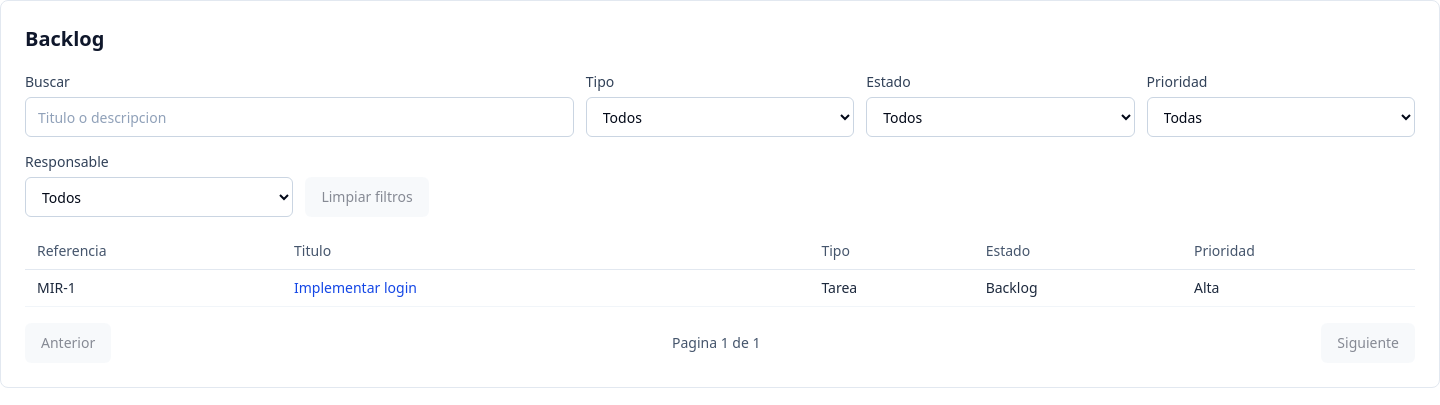
WorkItemBacklog › combina busqueda, tipo, estado, prioridad y responsable en una misma consulta
The width and height of the screenshot is (1440, 405).
Expected: the link "Implementar login" is shown, [294, 278, 417, 297]
Type "login" into the search field labelled "Buscar" at (299, 117), box [25, 97, 574, 137]
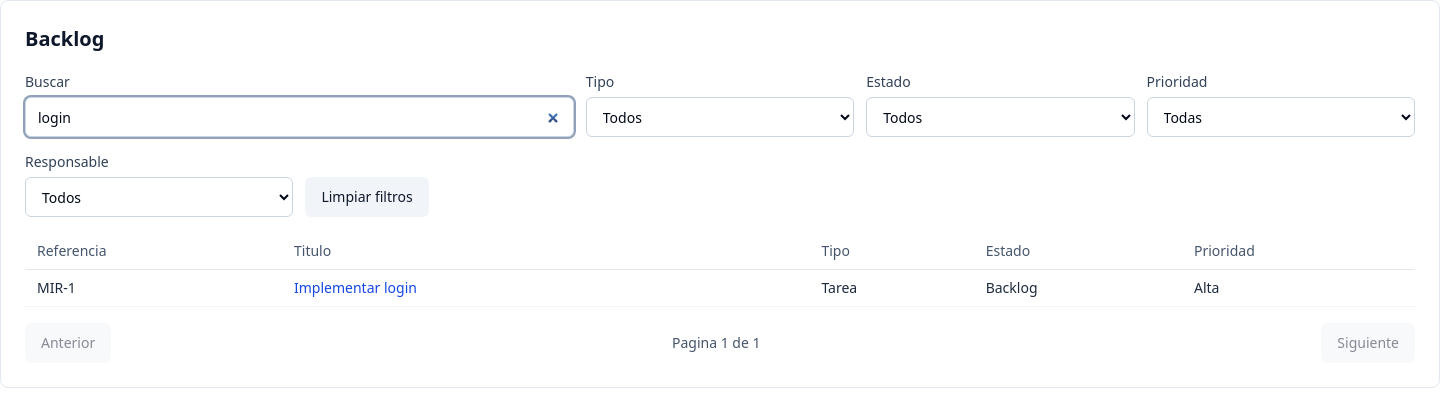
Select "Bug" in the dropdown labelled "Tipo" at (720, 117), box [586, 97, 854, 137]
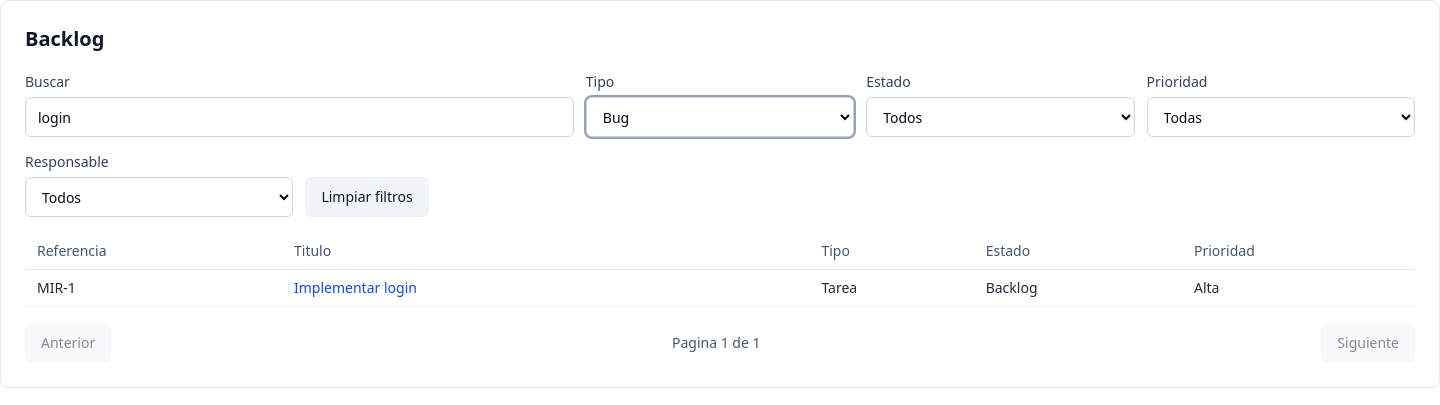
Select "En progreso" in the dropdown labelled "Estado" at (1000, 117), box [866, 97, 1135, 137]
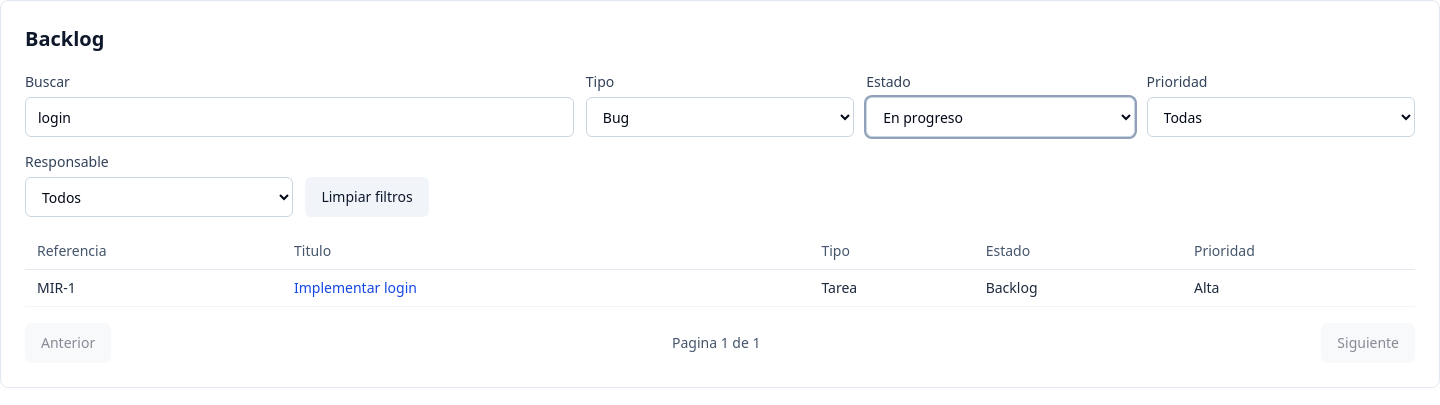
Select "Alta" in the dropdown labelled "Prioridad" at (1281, 117), box [1147, 97, 1415, 137]
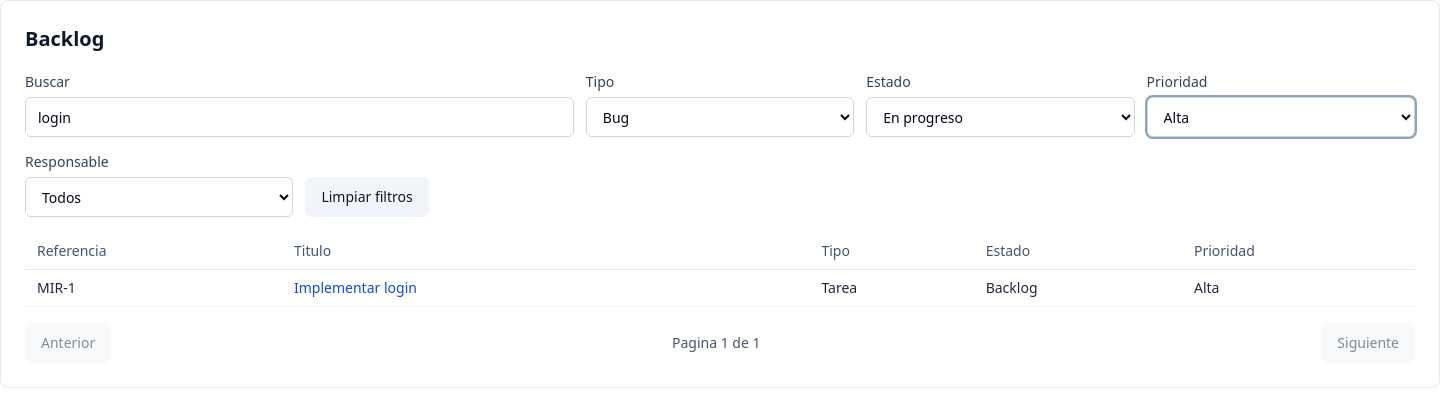
Select "Grace Hopper (grace@mira.dev)" in the dropdown labelled "Responsable" at (159, 197), box [25, 177, 293, 217]
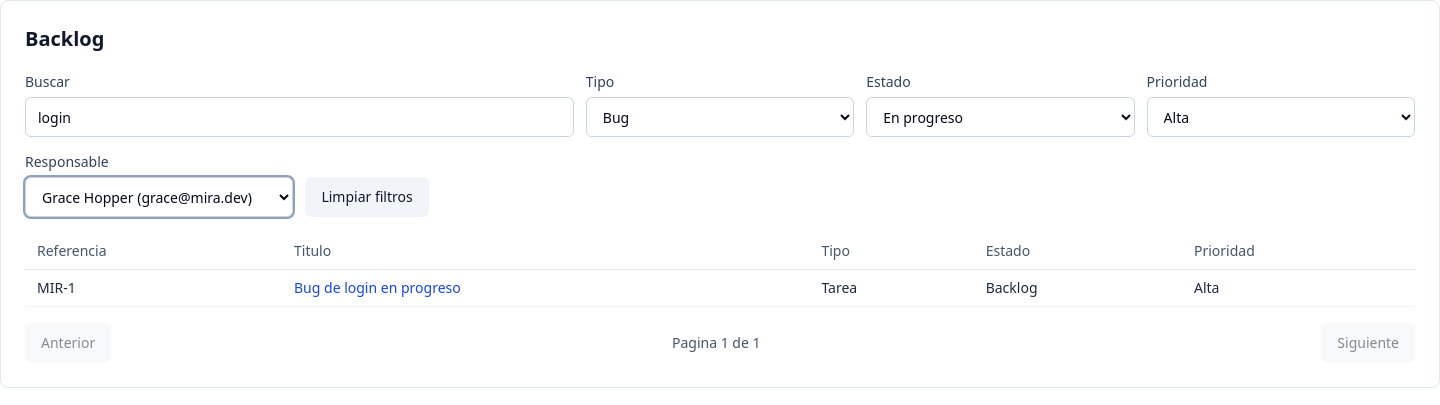
Now the link "Bug de login en progreso" is shown, box [294, 278, 461, 297]
